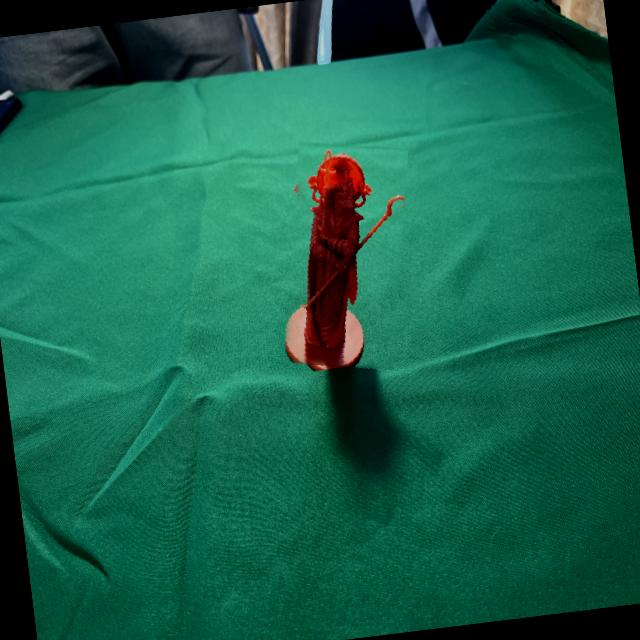amon: (267, 134, 424, 378)
